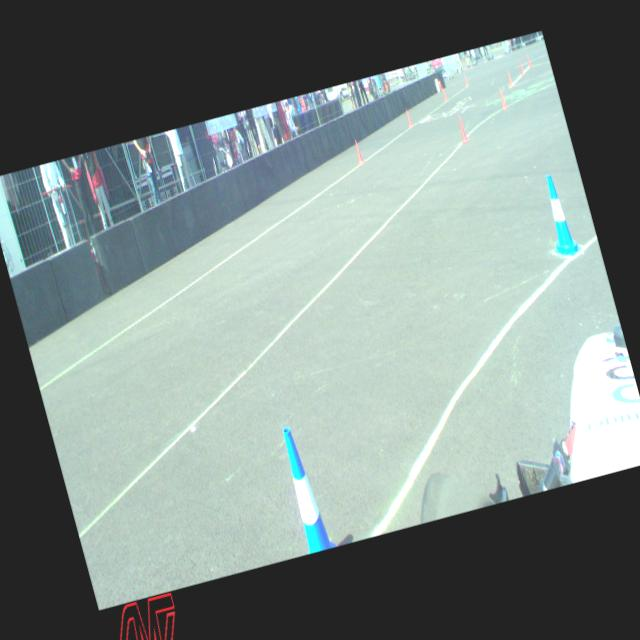blue_cone: (271, 422, 337, 554), (535, 170, 583, 260)
